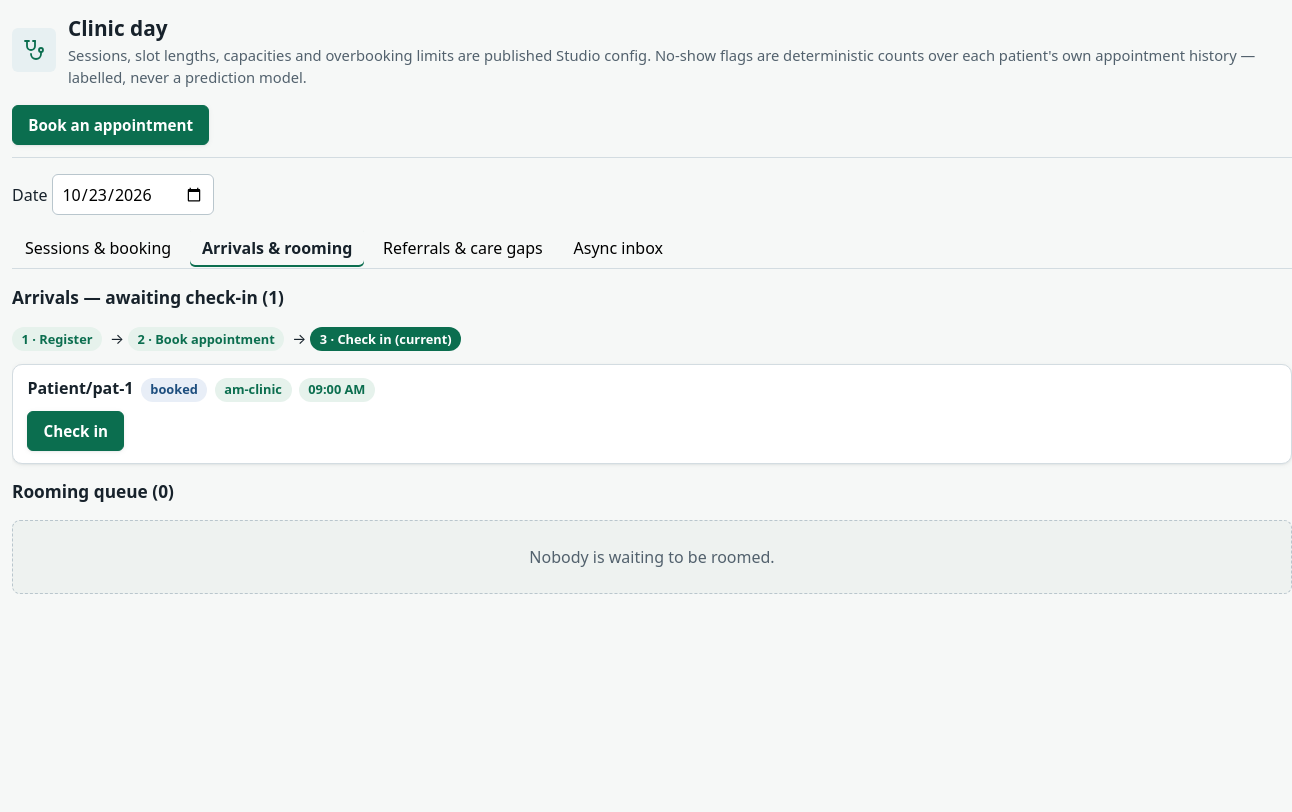
it: F-1 — front-desk check-in on the Clinic Day board › renders the arrivals worklist with step 3 current and checks in
Expected: the heading "Arrivals — awaiting check-in (1)" is shown, [12,286,284,309]
Expected: the text "3 · Check in (current)" is shown, [310,327,461,351]
Click the button "Check in" at (76, 431), box [27,410,124,451]
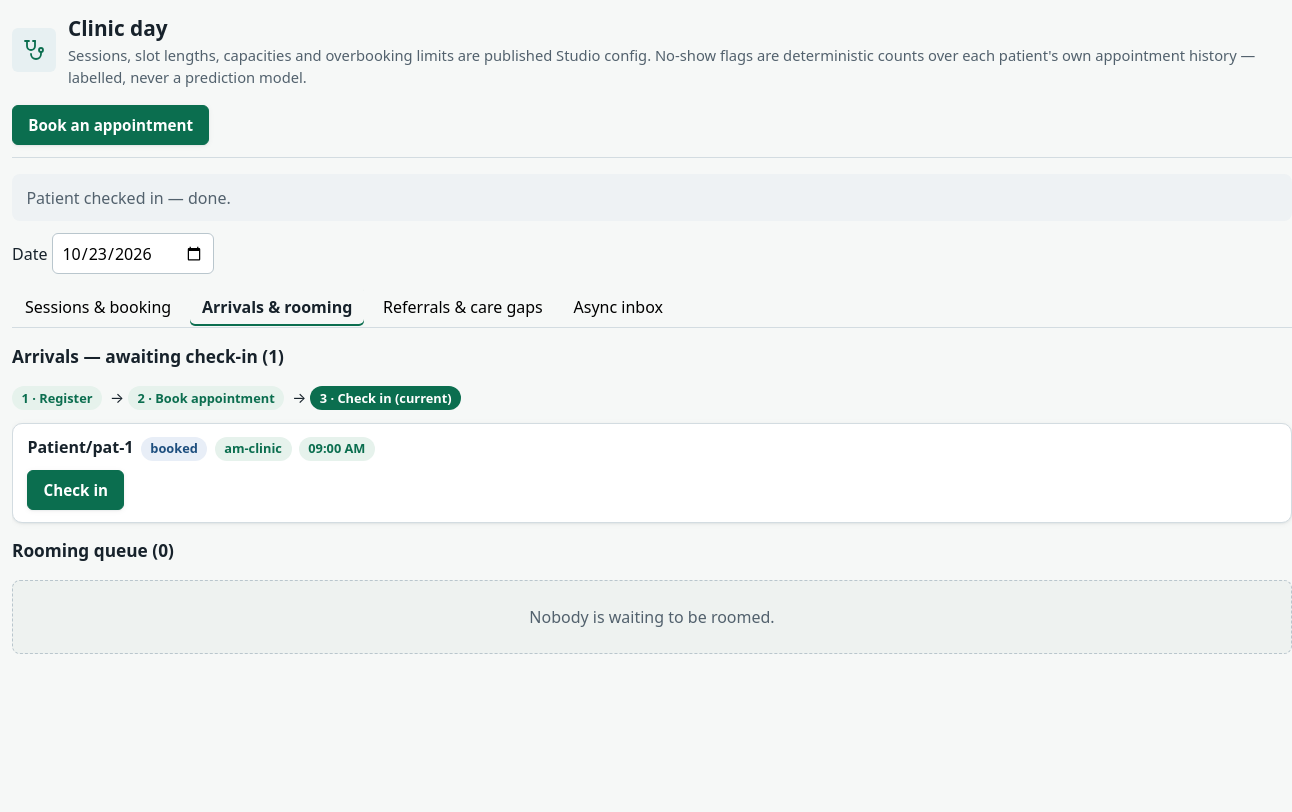
Expected: the text "Patient checked in — done." is shown, [12,174,1291,221]
